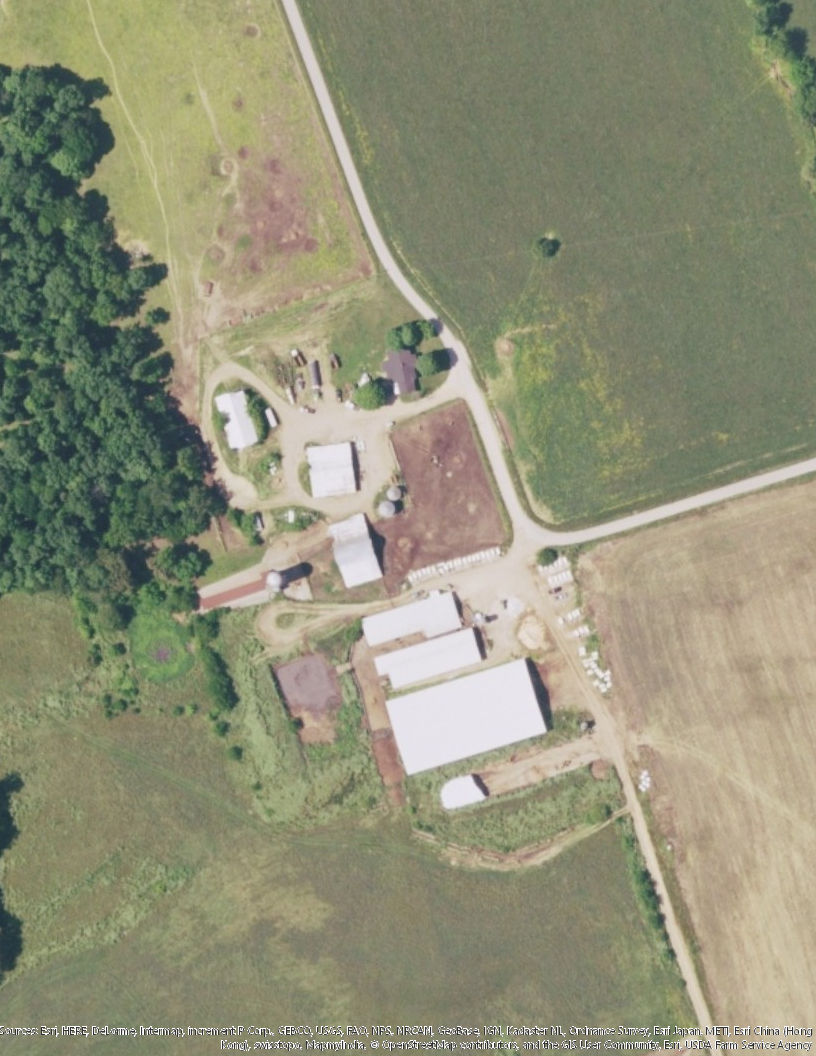cafo: (378, 653, 569, 776), (366, 621, 496, 686), (364, 588, 477, 646), (323, 509, 388, 590)
